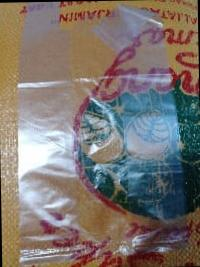Plastik: (18, 0, 186, 263)
